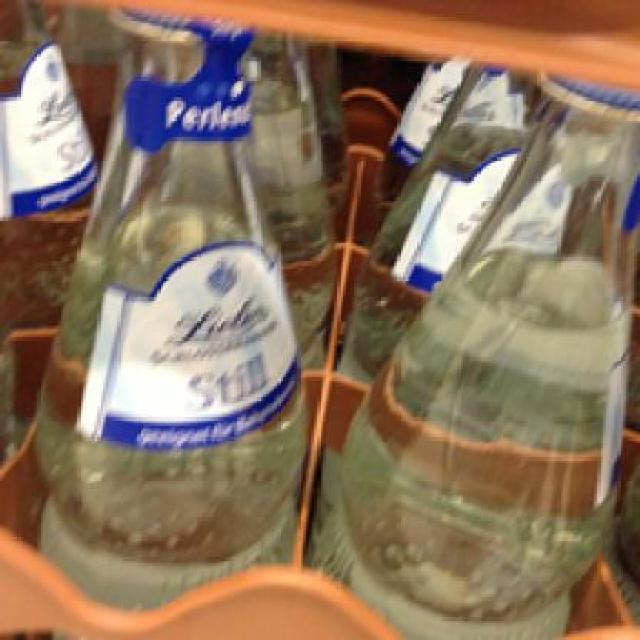Water: (317, 63, 637, 632), (29, 9, 308, 600)
